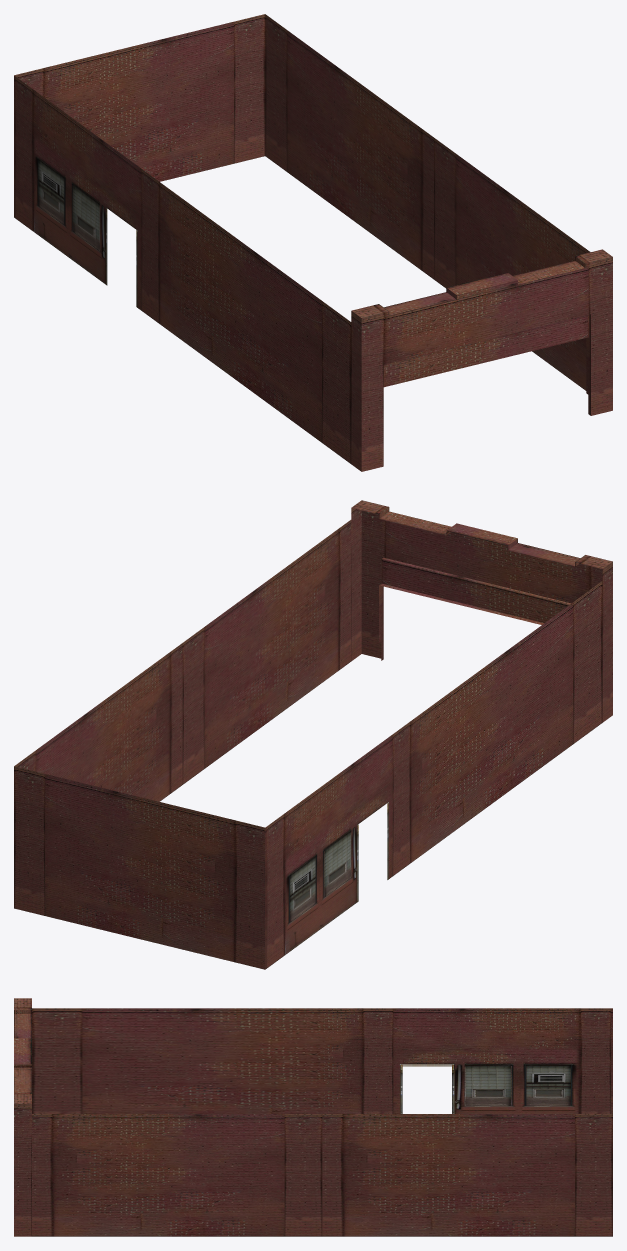
The model's file is rural_storesmall_5_rural_brownstone_facade_flr_6_0_lev2.glb.
The picture shows the model from 3 angles, top to bottom: view 1: azimuth 30°, elevation 25°; view 2: azimuth 150°, elevation 25°; view 3: azimuth 270°, elevation 25°; orthographic projection. The views are drawn at different scales.
Parts seen in each view (by area): view 1: rural_storesmall_5_rural_brownstone_facade_flr_6_0_lev2; view 2: rural_storesmall_5_rural_brownstone_facade_flr_6_0_lev2; view 3: rural_storesmall_5_rural_brownstone_facade_flr_6_0_lev2.
Boxes of the visible parts, x1,y1,x2,y2 form: rural_storesmall_5_rural_brownstone_facade_flr_6_0_lev2: (14,14,612,471); rural_storesmall_5_rural_brownstone_facade_flr_6_0_lev2: (14,500,612,969); rural_storesmall_5_rural_brownstone_facade_flr_6_0_lev2: (14,998,612,1236).
Size of the model in its own units: 5.93 by 3.46 by 14.2.
1 material, 1 textured.
